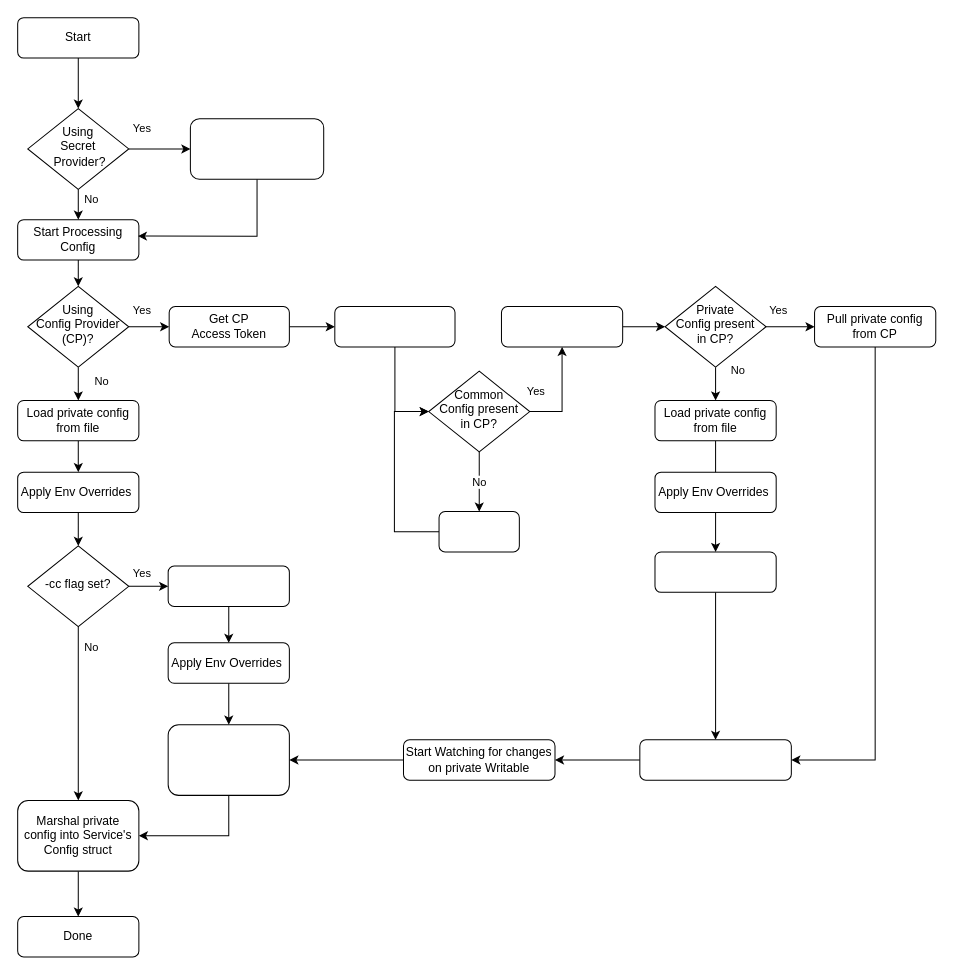
This 953x975 diagram has some shape labels left out. The centre of each missing label's shape, as x and y in pixels:
"Create CP Client" goes at (394,326).
"Create Secret Provider from defaults and Env Overrides" goes at (256,148).
"Load common config from file" goes at (228,586).
"Marshal common config into Service's Config struct" goes at (228,759).
"Pull common config from CP" goes at (561,326).
"Push private config to CP" goes at (715,571).
"Start Watching for changes on common Writable" goes at (715,759).
"Wait for interval" goes at (478,531).
